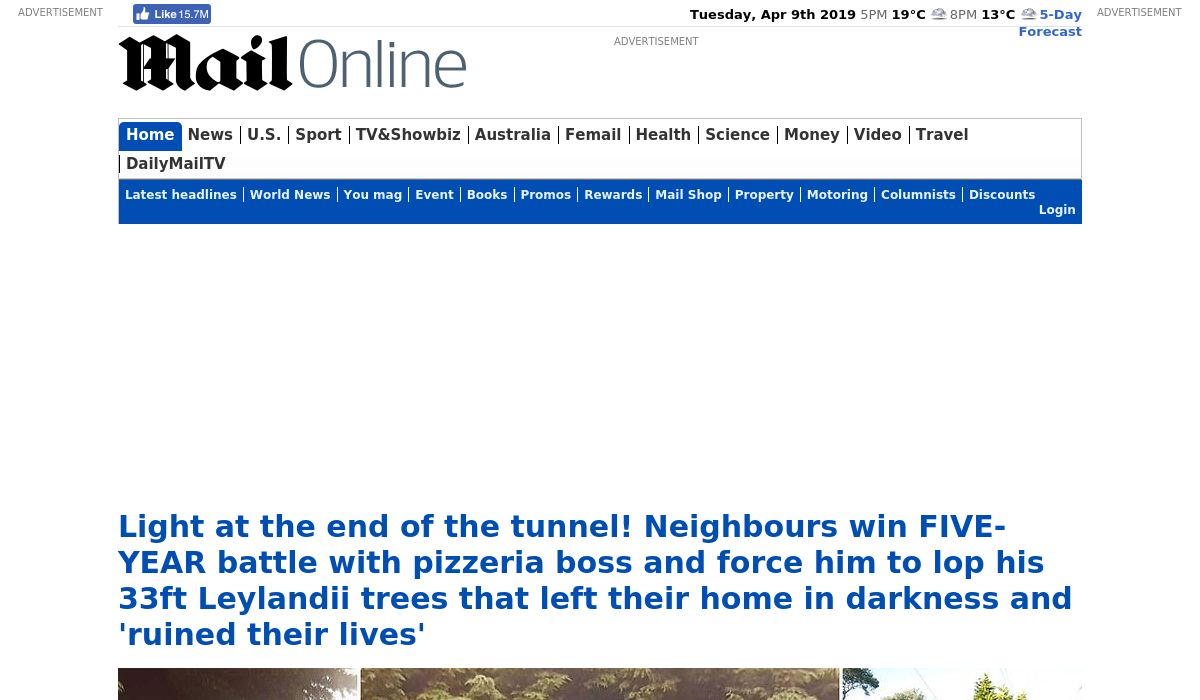menu: (119, 118, 1081, 178), (1, 1, 1199, 26)
menu-button: (126, 186, 241, 207), (352, 127, 463, 146), (126, 156, 230, 174), (119, 123, 182, 151), (246, 188, 336, 205), (471, 127, 554, 145), (703, 125, 771, 146), (653, 186, 724, 206), (879, 188, 959, 205), (135, 4, 209, 22), (802, 186, 870, 205), (968, 187, 1039, 205), (732, 186, 795, 206), (783, 126, 845, 145), (634, 126, 695, 145), (914, 126, 972, 144), (581, 188, 645, 204), (343, 188, 405, 204), (186, 126, 237, 145), (565, 127, 625, 143), (851, 126, 904, 143), (293, 127, 345, 144), (464, 187, 513, 204), (1038, 202, 1077, 223), (520, 189, 575, 202), (415, 188, 458, 204), (243, 127, 283, 144)
